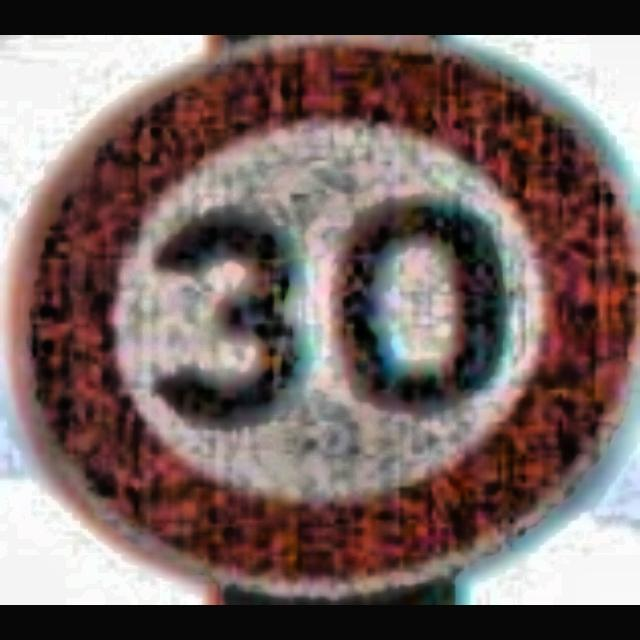speed_30: (24, 48, 636, 580)
